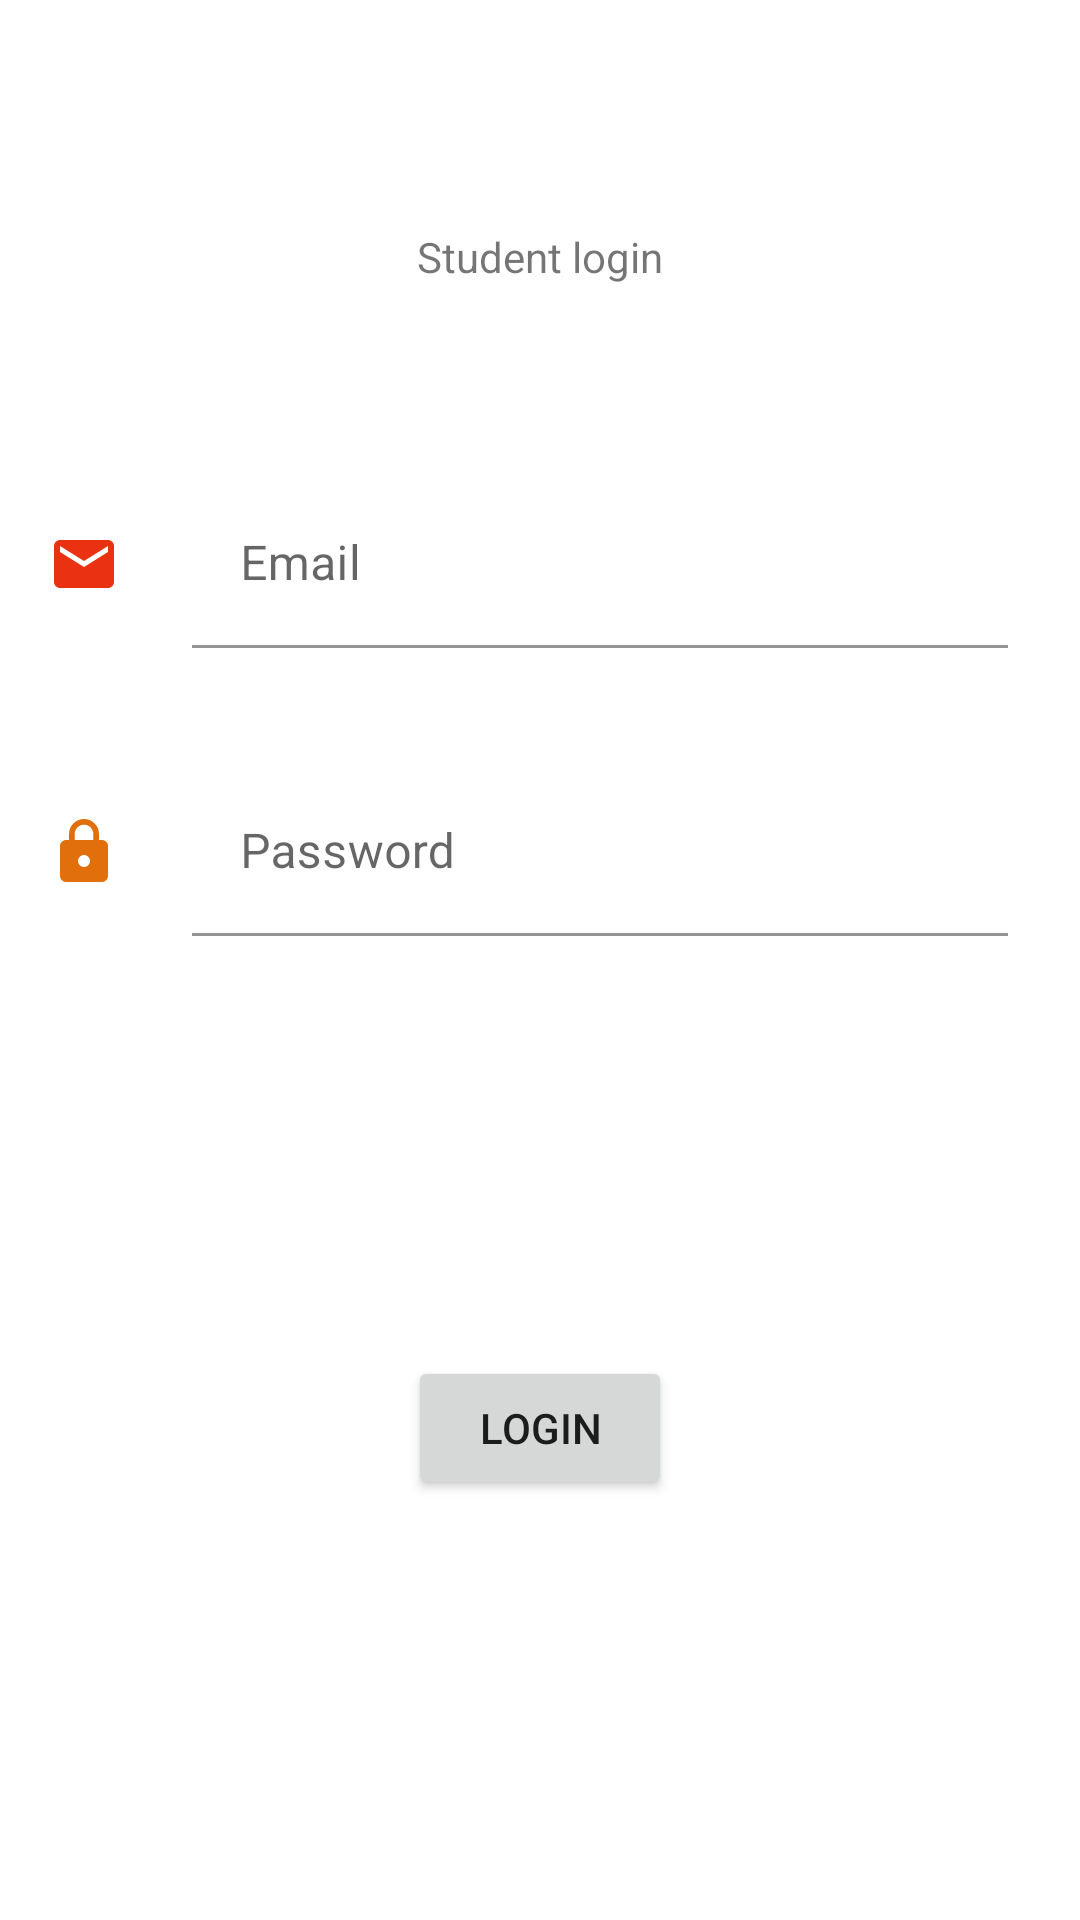

Point at icon controls on the screen. Image size 1080*1920, points as (x,y).
email: (84,564)
lock: (84,850)
